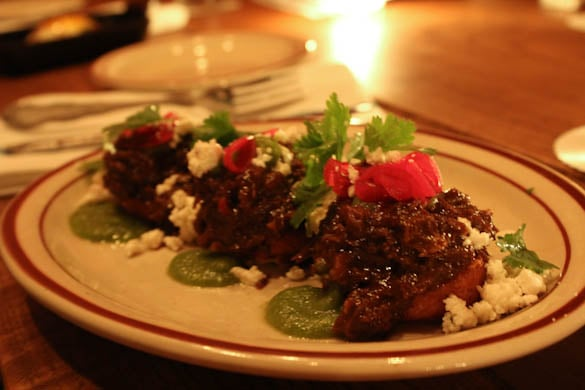curry: (13, 3, 584, 382)
